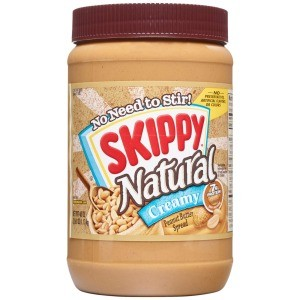peanut butter_brain food: (75, 79, 215, 239)
